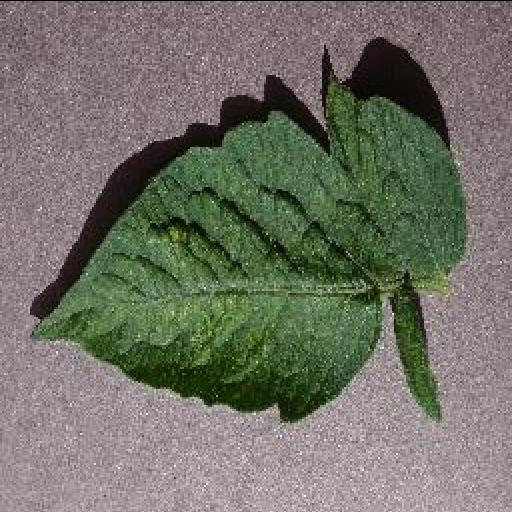disease_tomato: (30, 80, 470, 426)
